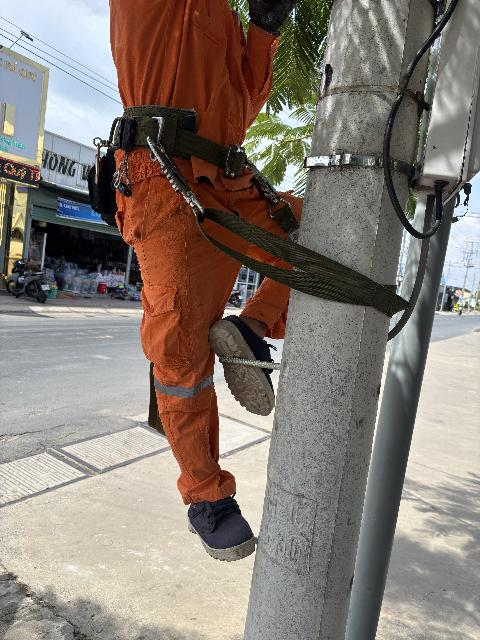gloves: (246, 0, 301, 41)
harness: (96, 98, 290, 198)
shoes: (200, 299, 291, 422), (186, 451, 262, 570)
